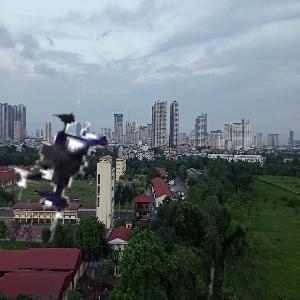drone: (1, 84, 172, 255)
